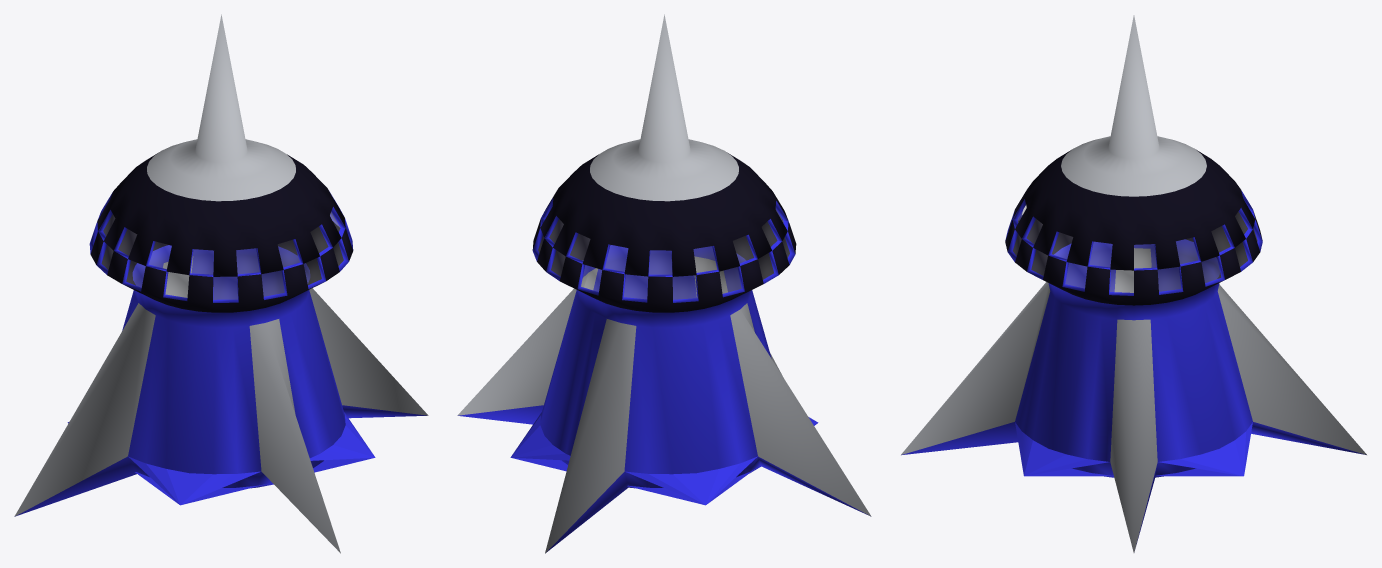
Rendered from building1.glb.
The picture shows the model from 3 angles, left to right: view 1: azimuth 30°, elevation 25°; view 2: azimuth 150°, elevation 25°; view 3: azimuth 270°, elevation 25°; orthographic projection. The views are drawn at different scales.
Parts seen in each view (by area): view 1: Plane.001; view 2: Plane.001; view 3: Plane.001.
Part boxes in pixels (x1,y1,x2,y2): Plane.001: (14, 14, 428, 553); Plane.001: (457, 14, 871, 553); Plane.001: (901, 15, 1366, 552).
Size of the model in its own units: 3.55 by 3.71 by 3.55.
